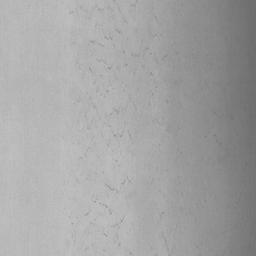Silk spot: (93, 198, 112, 215)
